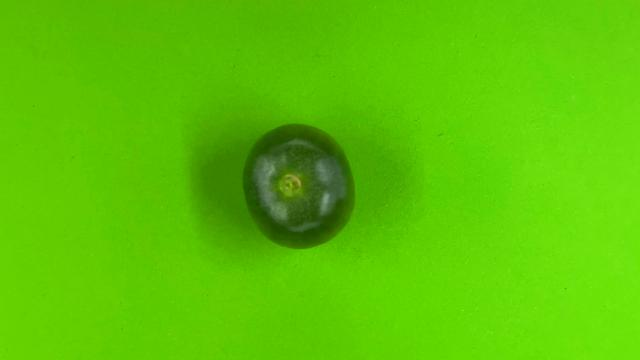Fruit Maturation: (240, 122, 357, 250)
